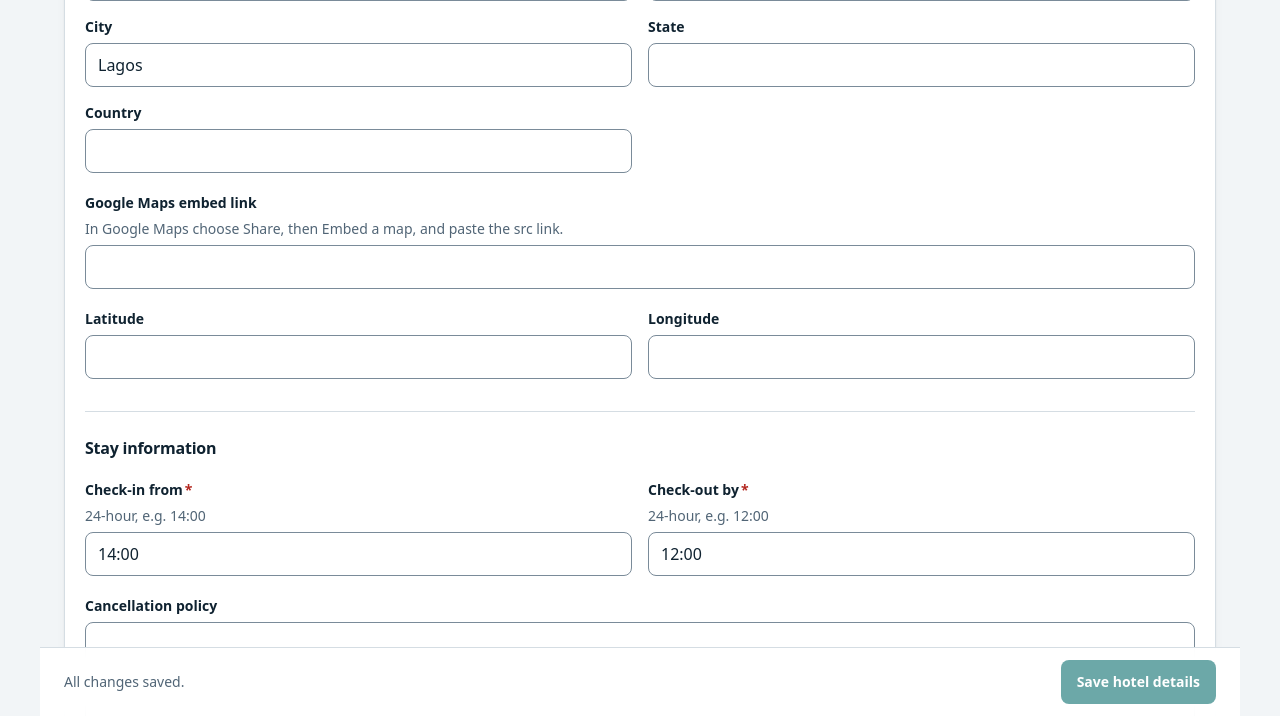
Scenario: hotel details form › Latitude: shows a clear message and sends nothing
(page scrolled)
Type "123" into the field labelled "Latitude" at (358, 357), box [85,335,632,379]
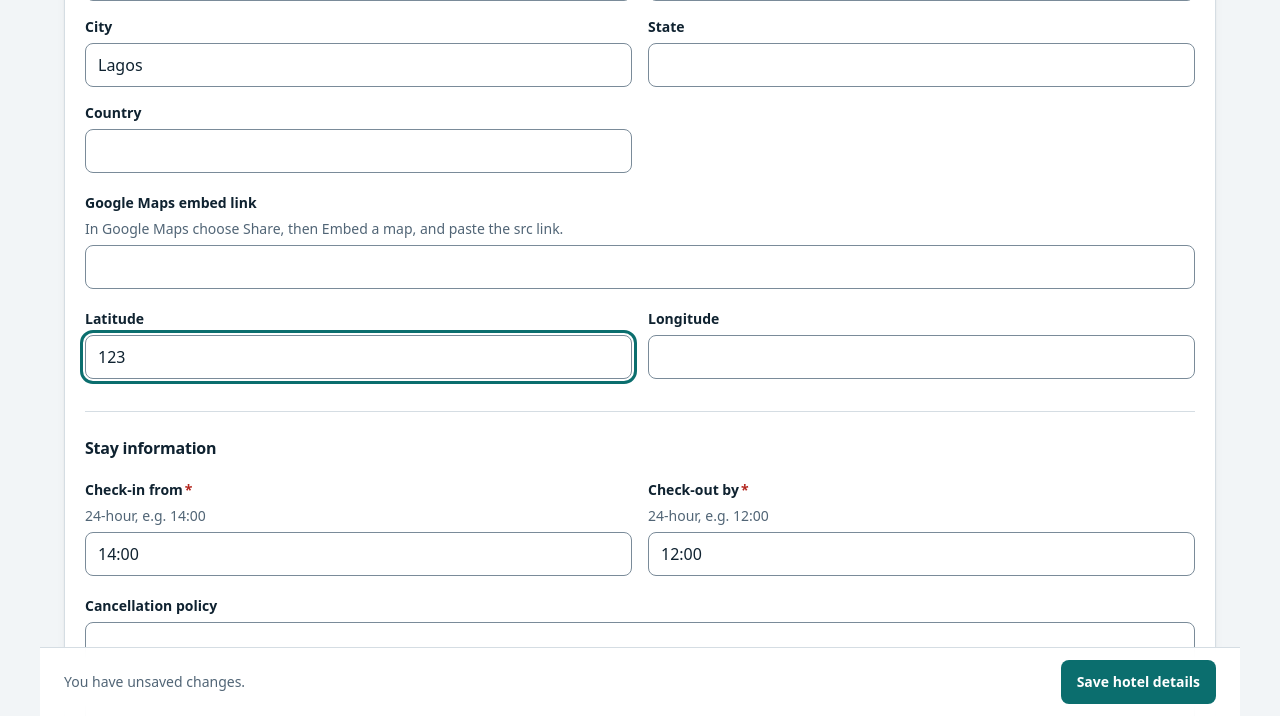
Click the button "Save hotel details" at (1138, 682), box [1061,660,1216,704]
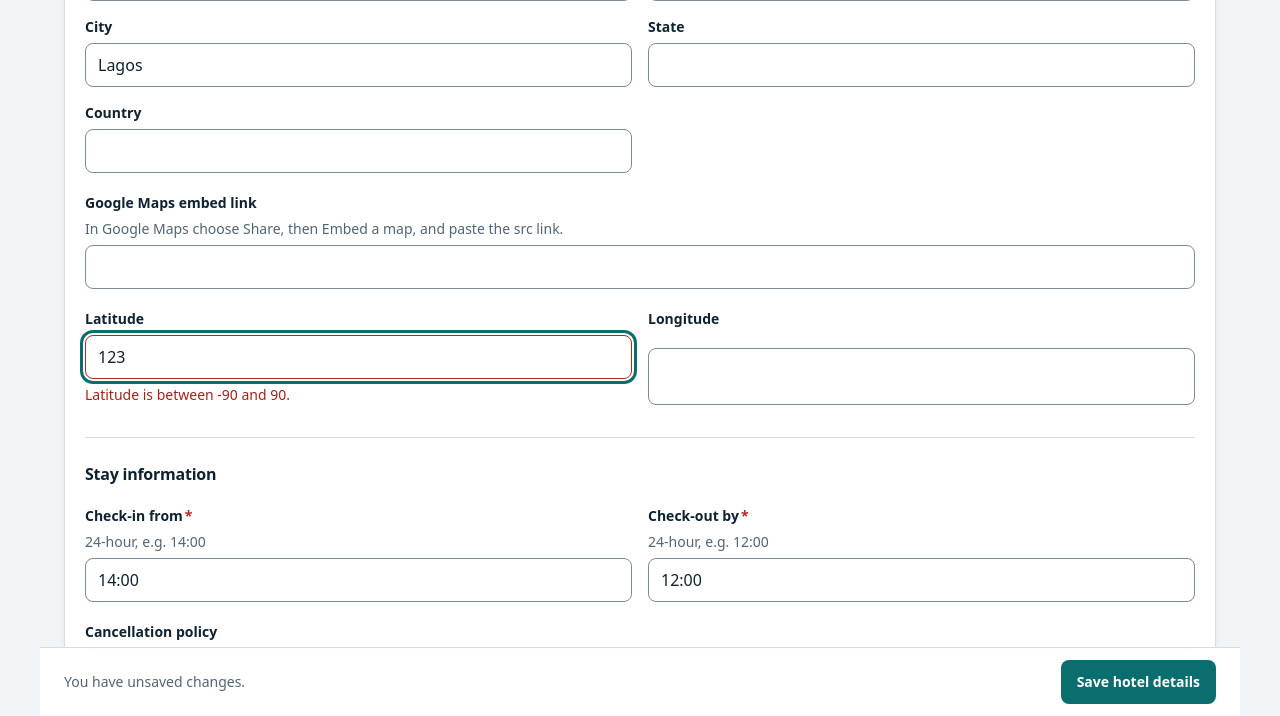
Now the text "Latitude is between -90 and 90." is shown, box [85,385,290,404]
